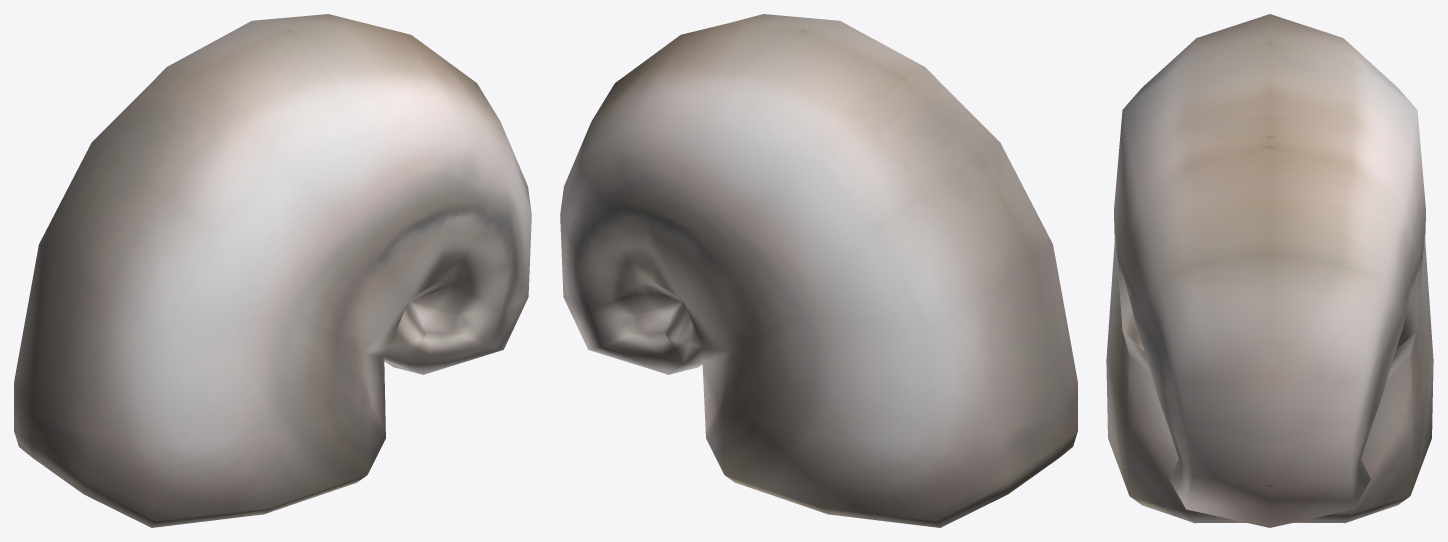
Rendered from seashell_2.fbx.
The picture shows the model from 3 angles, left to right: view 1: azimuth 30°, elevation 25°; view 2: azimuth 150°, elevation 25°; view 3: azimuth 270°, elevation 25°; orthographic projection. The views are drawn at different scales.
Visible parts, largest first — view 1: seashell_2; view 2: seashell_2; view 3: seashell_2.
Boxes of the visible parts, x1,y1,x2,y2 form: seashell_2: (14, 14, 531, 527); seashell_2: (560, 14, 1077, 527); seashell_2: (1106, 14, 1433, 527).
Bounding box in the file's own units: 14.56 × 11.76 × 7.63.
